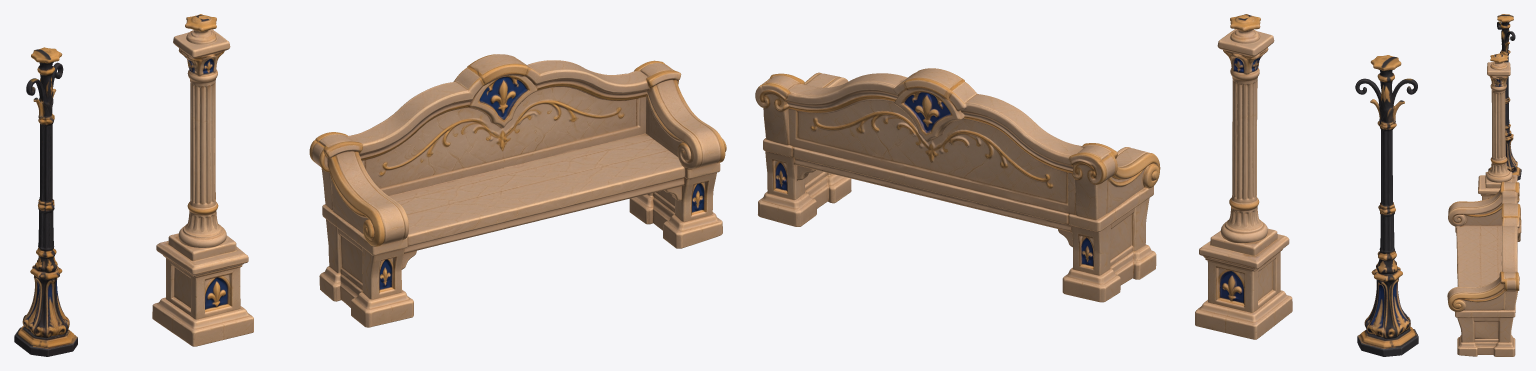
File: sheet-large.glb
3 renders of one model, left to right at view 1: azimuth 30°, elevation 25°; view 2: azimuth 150°, elevation 25°; view 3: azimuth 270°, elevation 25°, orthographic. The views are drawn at different scales.
Bounding box in the file's own units: 1.9 × 0.8673 × 0.3354.
Materials: 1 (1 with a texture image).
